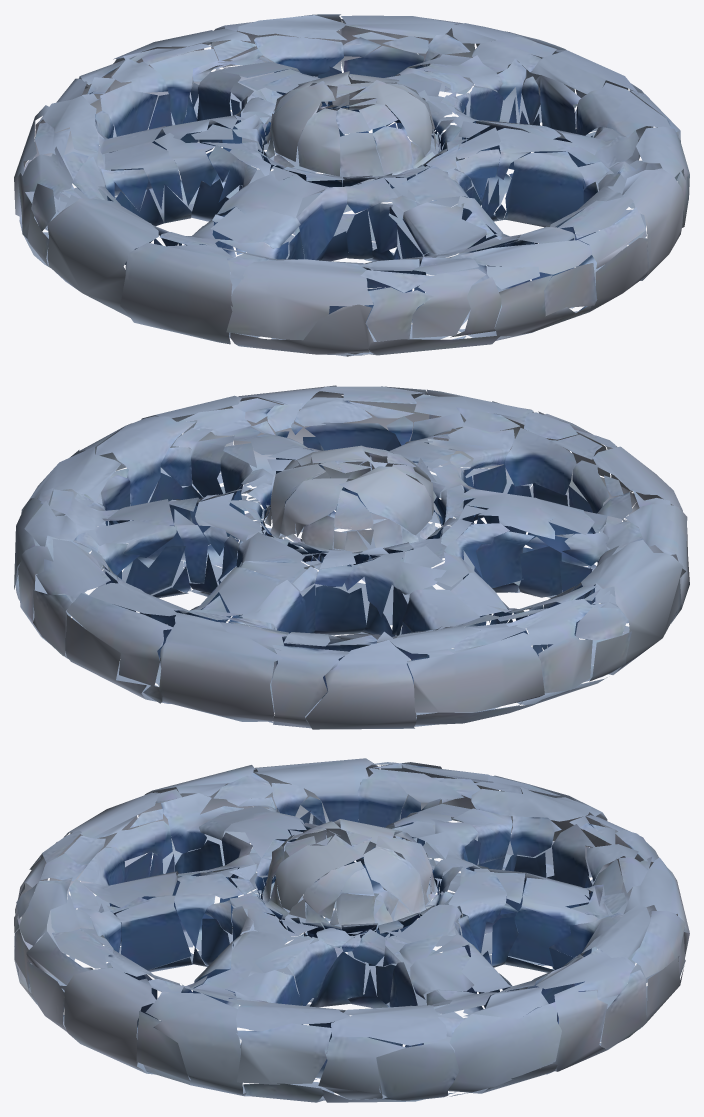
The model's file is meshy-pan-hubcap.glb.
The picture shows the model from 3 angles, top to bottom: view 1: azimuth 30°, elevation 25°; view 2: azimuth 150°, elevation 25°; view 3: azimuth 270°, elevation 25°; orthographic projection.
Visible parts, largest first — view 1: Mesh_0; view 2: Mesh_0; view 3: Mesh_0.
Boxes of the visible parts, x1,y1,x2,y2 form: Mesh_0: [14, 14, 689, 356]; Mesh_0: [14, 385, 689, 729]; Mesh_0: [14, 758, 689, 1102].
Size of the model in its own units: 1.9 by 0.4338 by 1.91.
1 material, 1 textured.
